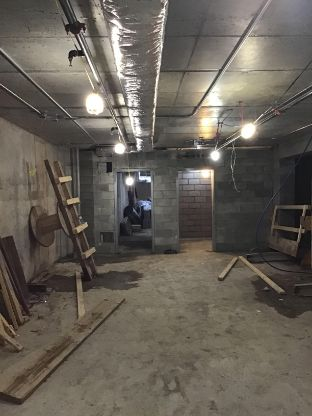Duct: (97, 1, 173, 156)
